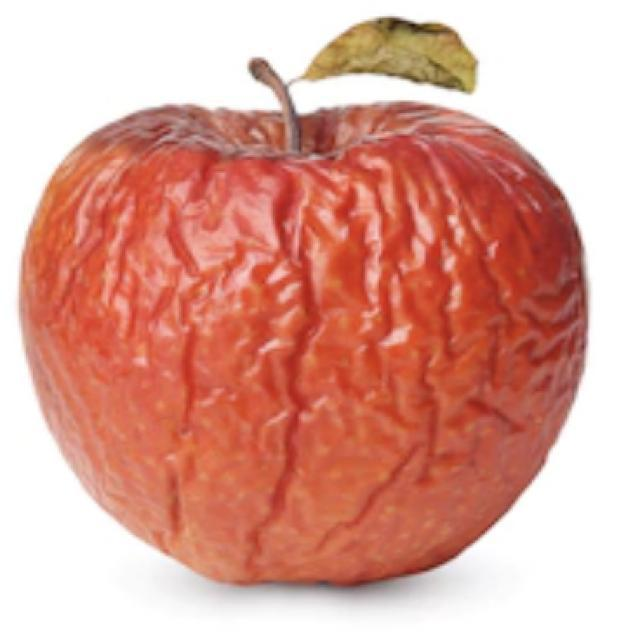Rotten: (53, 95, 575, 588)
